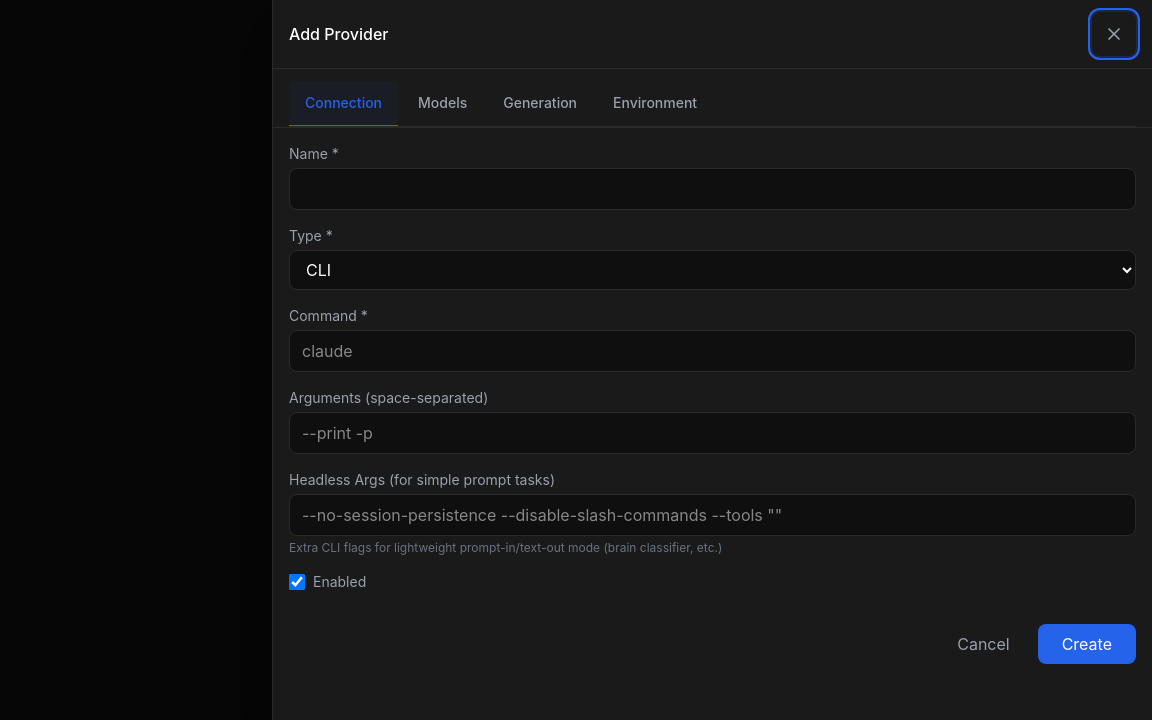
Test: ProviderForm › keeps entered values when a tab switch unmounts their fields
Type "Example Provider" into the field labelled "Name *".
click(712, 189); type("Example Provider")  # box [289,168,1136,210]
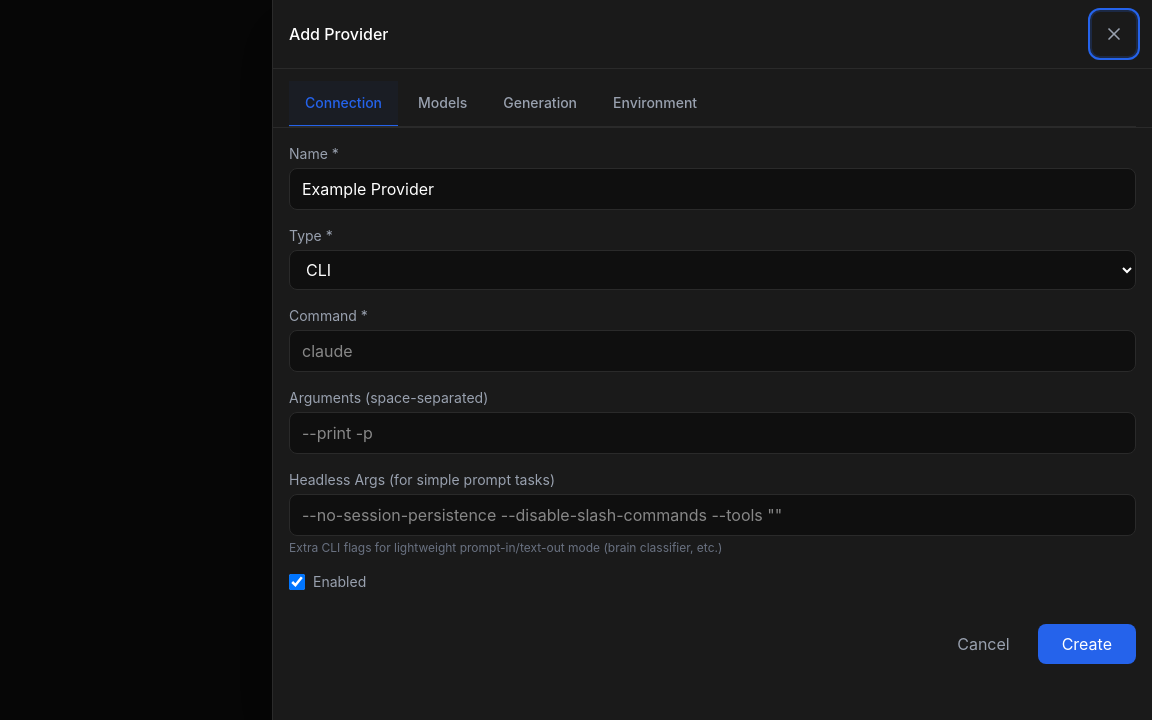
Click the tab "Generation".
click(540, 104)  # box [487,81,593,127]
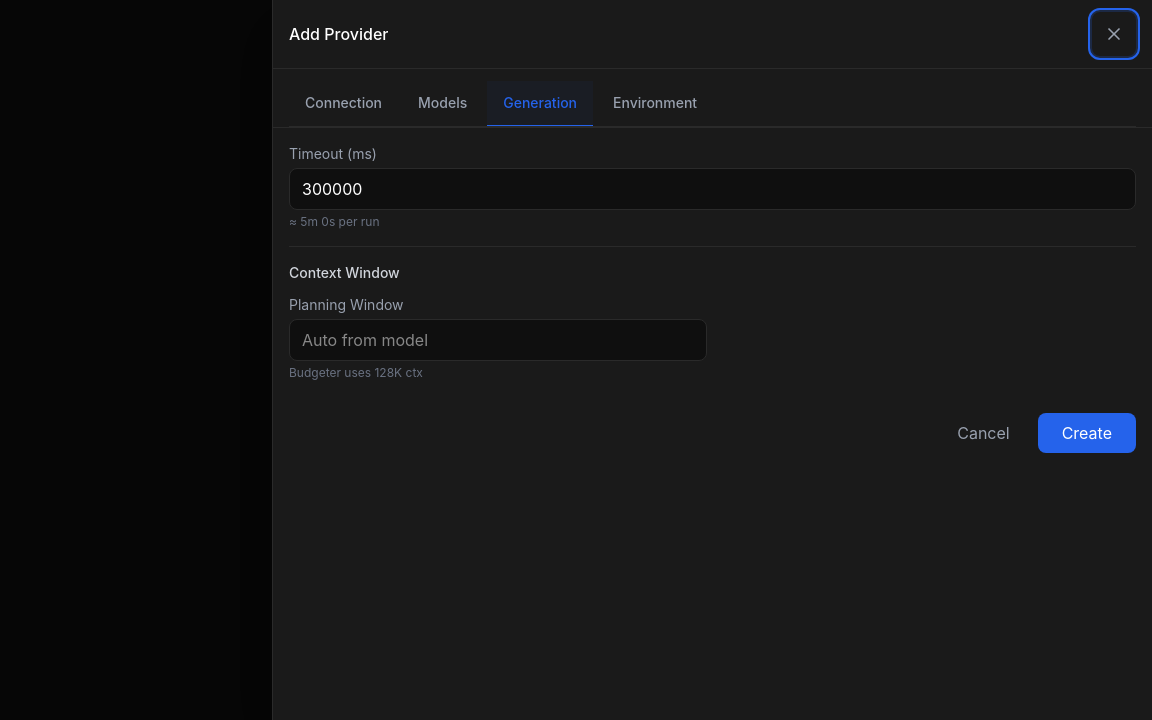
Expected: the label labelled "Name *" is gone
Type "8192" into the number field labelled "Planning Window".
click(498, 340); type("8192")  # box [289,319,706,361]
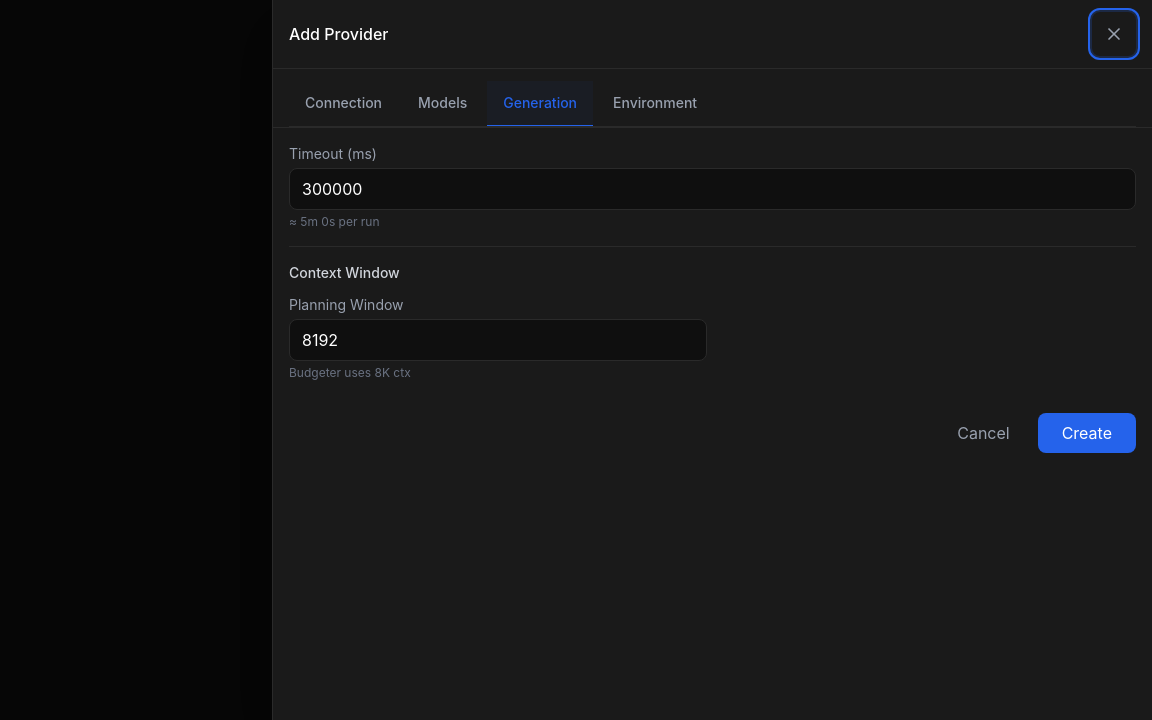
Click the tab "Connection".
click(344, 104)  # box [289,81,398,127]
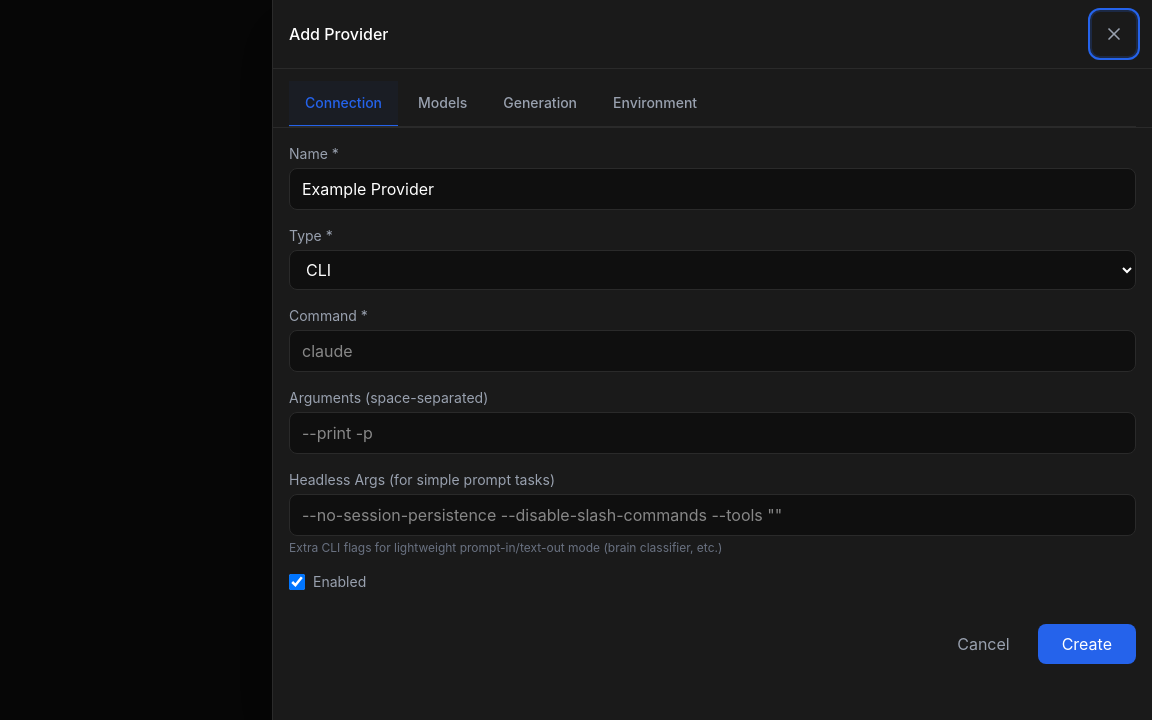
Expected: the field labelled "Name *" holds "Example Provider", [289,168,1136,210]
Click the tab "Generation".
click(540, 104)  # box [487,81,593,127]
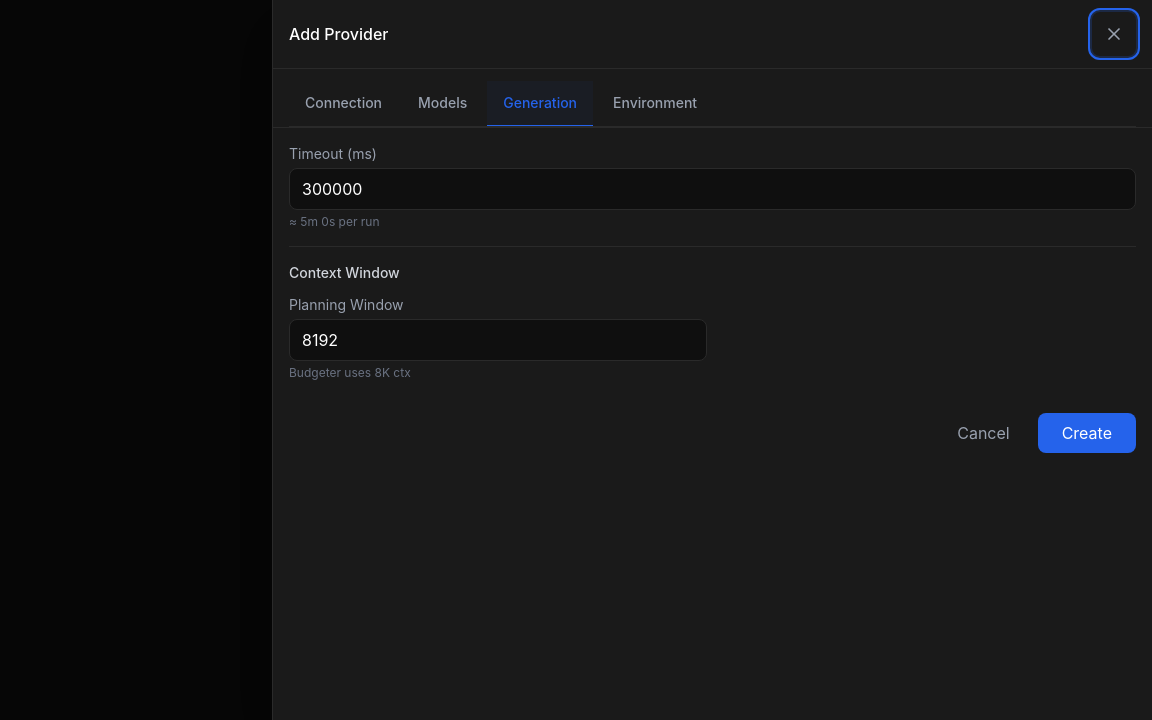
Expected: the number field labelled "Planning Window" holds "8192", [289,319,706,361]
